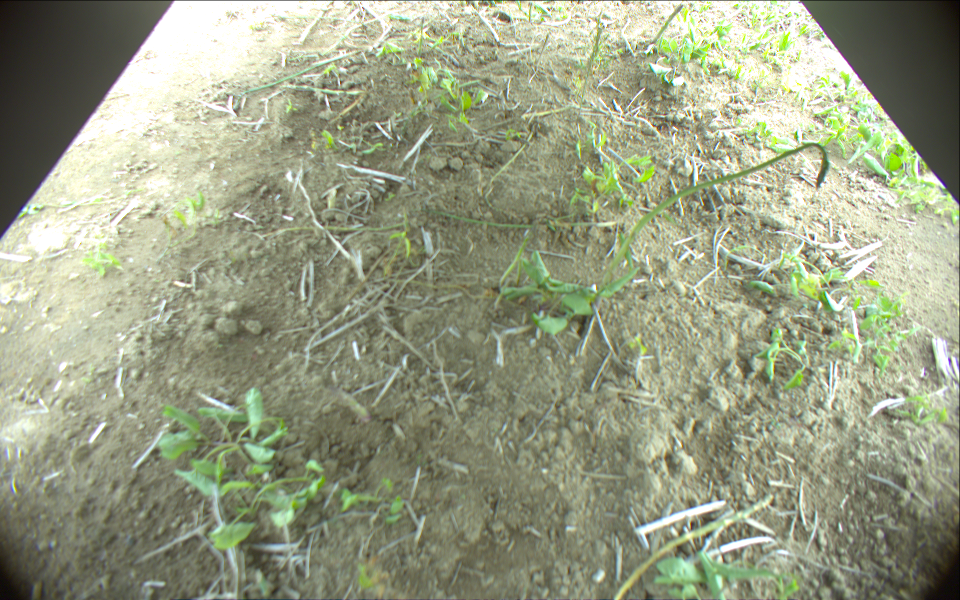aspa: (597, 142, 830, 295), (616, 491, 773, 600), (232, 47, 360, 109), (439, 206, 616, 228), (652, 3, 684, 45), (284, 84, 365, 95), (415, 16, 426, 61)
